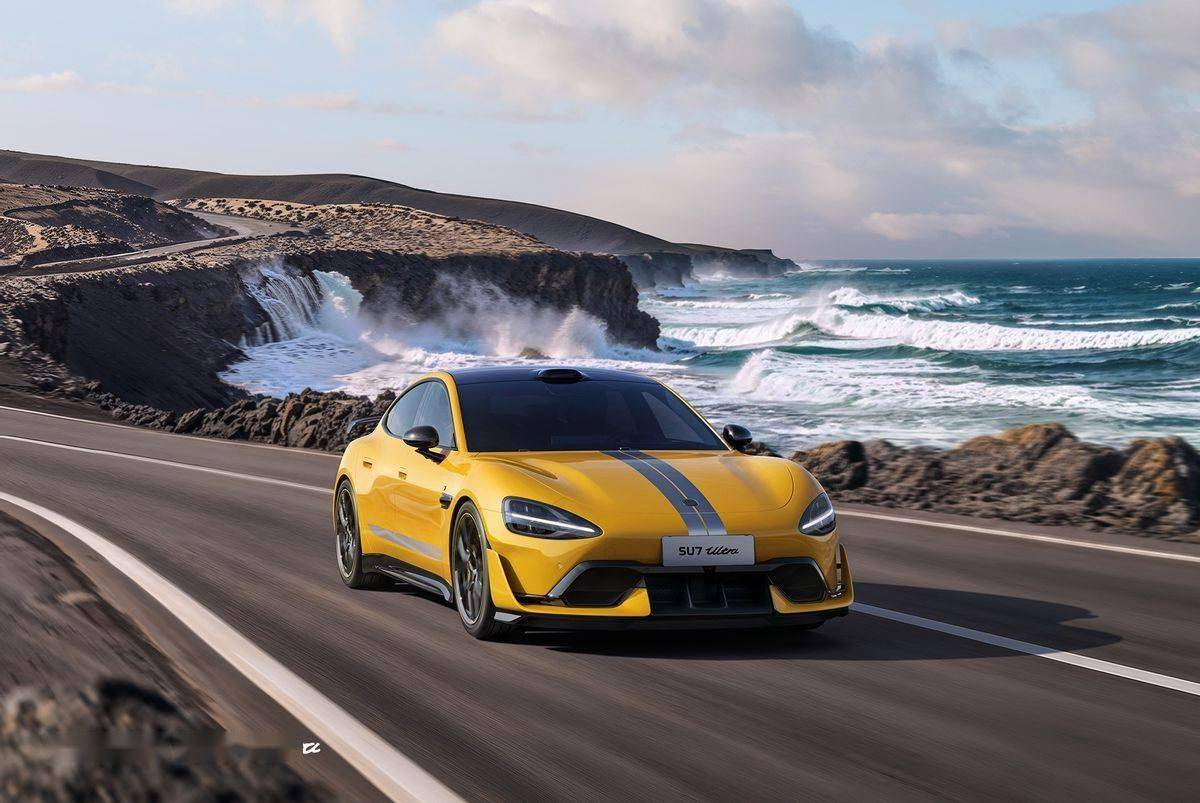su7: (328, 365, 858, 643)
